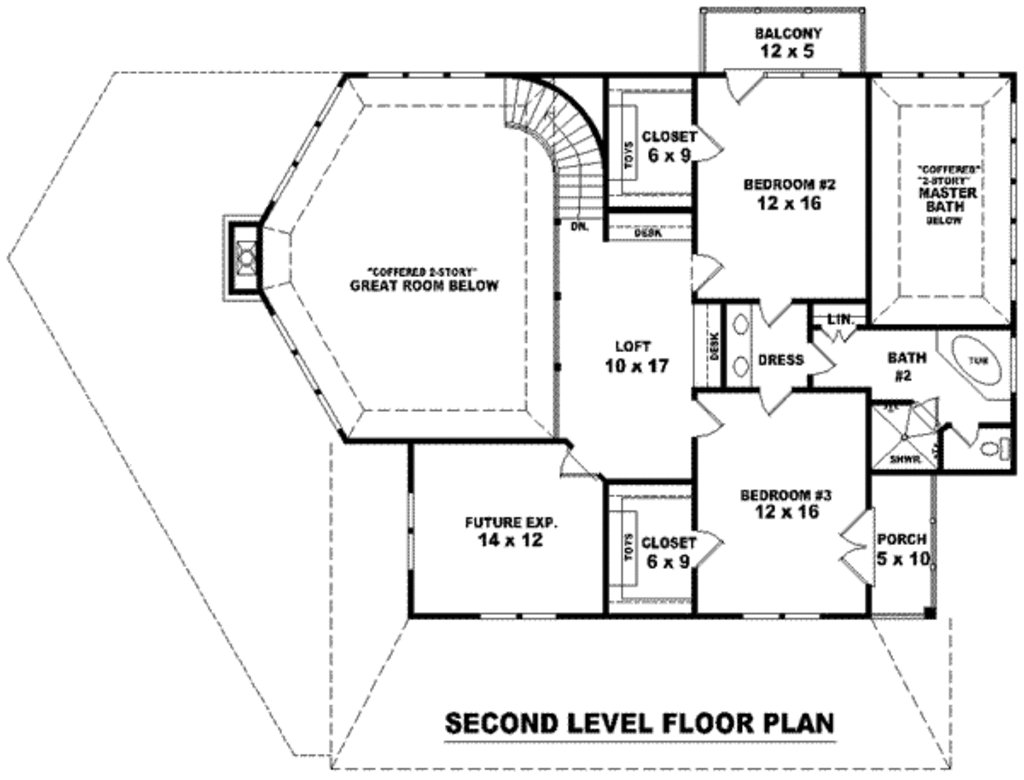door: (834, 499, 878, 586), (685, 393, 723, 438), (691, 248, 725, 296), (750, 384, 796, 415), (691, 119, 724, 160), (729, 70, 765, 104), (558, 444, 590, 479), (693, 527, 723, 563), (761, 296, 795, 326), (947, 420, 984, 444), (811, 342, 836, 373), (817, 328, 860, 337)
large_sink: (974, 431, 1019, 469)
small_sink: (727, 305, 761, 344), (723, 348, 756, 387)
stairs: (503, 75, 605, 221)
tub: (937, 327, 1014, 399)
window: (883, 70, 1003, 83), (374, 70, 490, 79), (770, 68, 841, 79)
